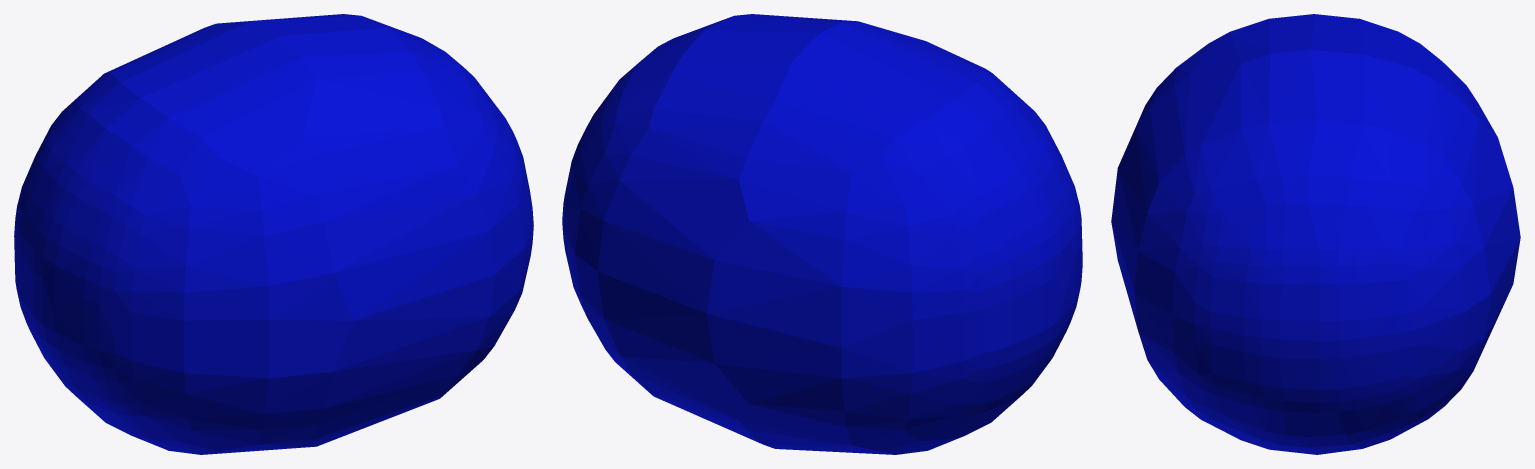
Rendered from COL_hollie_real.019.dae.
The picture shows the model from 3 angles, left to right: view 1: azimuth 30°, elevation 25°; view 2: azimuth 150°, elevation 25°; view 3: azimuth 270°, elevation 25°; orthographic projection. The views are drawn at different scales.
Parts seen in each view (by area): view 1: COL_COL_COL_VIS_VIS_VIS_VIS_VIS_VIS_VIS_VIS_VIS_hollie_real_; view 2: COL_COL_COL_VIS_VIS_VIS_VIS_VIS_VIS_VIS_VIS_VIS_hollie_real_; view 3: COL_COL_COL_VIS_VIS_VIS_VIS_VIS_VIS_VIS_VIS_VIS_hollie_real_.
Part boxes in pixels (left/top/right/bottom): COL_COL_COL_VIS_VIS_VIS_VIS_VIS_VIS_VIS_VIS_VIS_hollie_real_: left=14, top=14, right=533, bottom=454; COL_COL_COL_VIS_VIS_VIS_VIS_VIS_VIS_VIS_VIS_VIS_hollie_real_: left=562, top=14, right=1082, bottom=454; COL_COL_COL_VIS_VIS_VIS_VIS_VIS_VIS_VIS_VIS_VIS_hollie_real_: left=1111, top=14, right=1520, bottom=454.
Size of the model in its own units: 0.0697 by 0.0567 by 0.0571.
